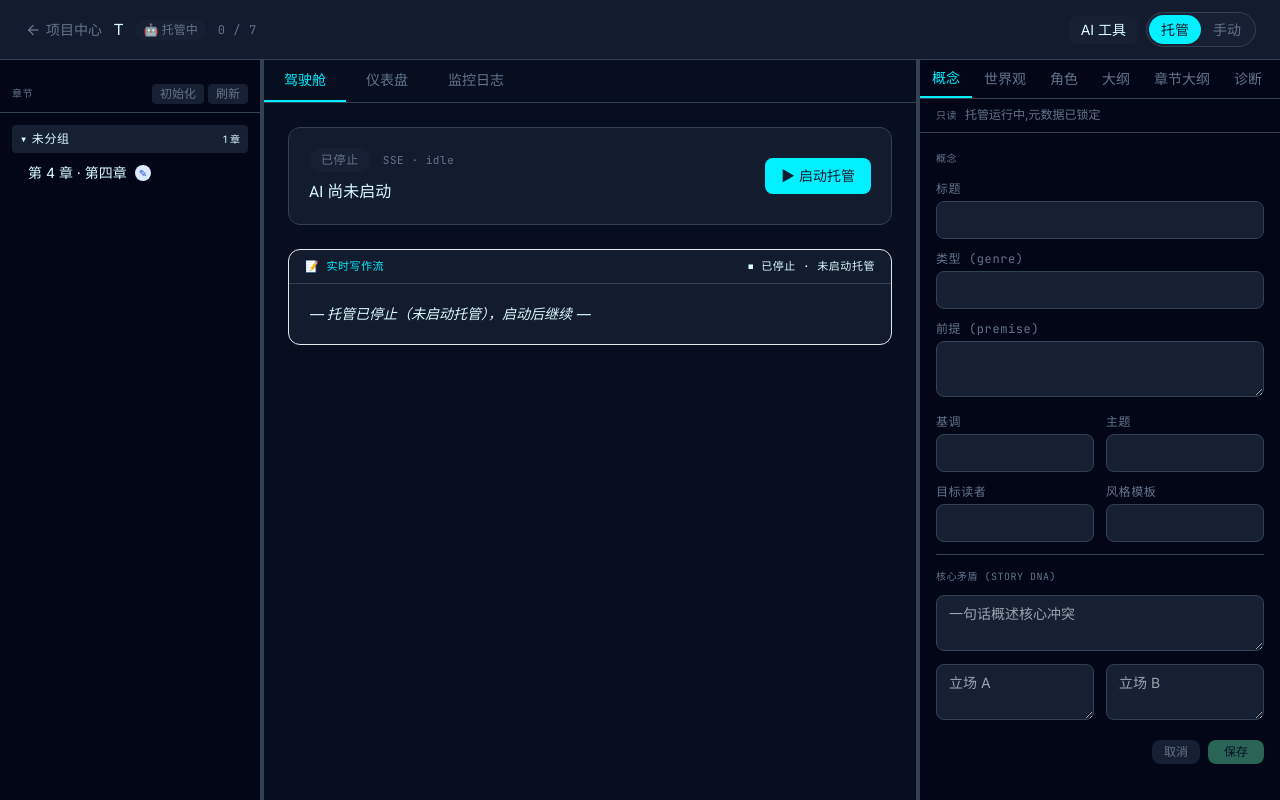
Test: Workspace integration › clicking a 'writing' chapter row opens the take-over confirm modal (not direct switch)
Click the button with test id "chapter-4": x=134, y=173 [20,157,248,189]
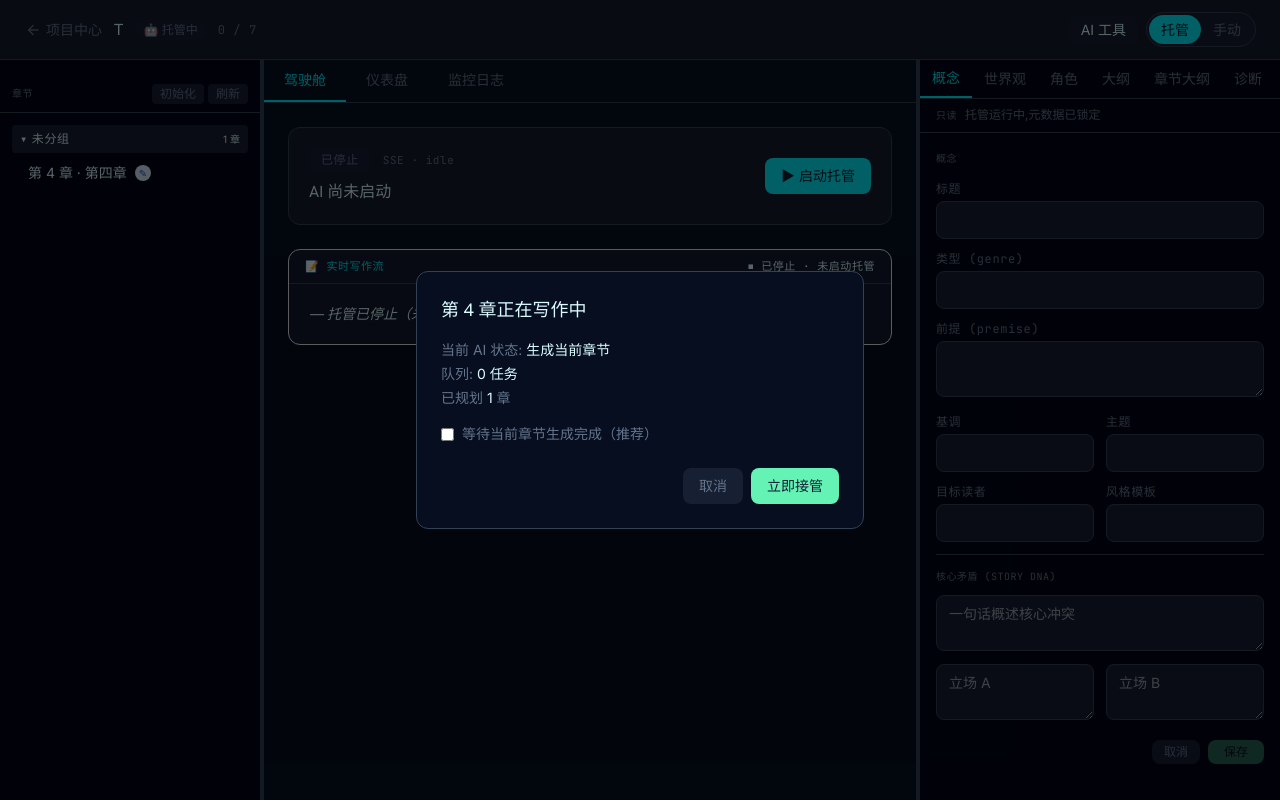
Now the element with test id "mode-switch-confirm" is shown
